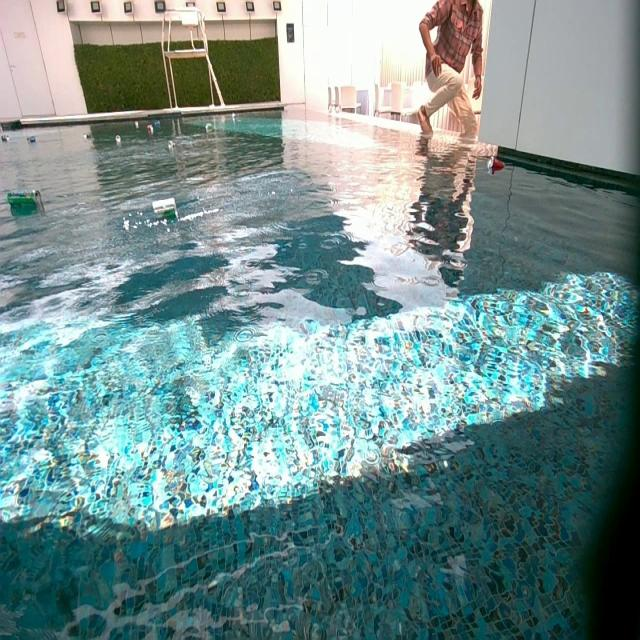Cans: (8, 190, 42, 210), (152, 197, 179, 219), (487, 159, 505, 175), (168, 140, 176, 152), (28, 135, 37, 145), (1, 135, 10, 144), (152, 120, 161, 128), (146, 127, 154, 135), (114, 135, 121, 144), (232, 114, 239, 122), (206, 122, 213, 130), (84, 133, 90, 140), (135, 121, 141, 128)
